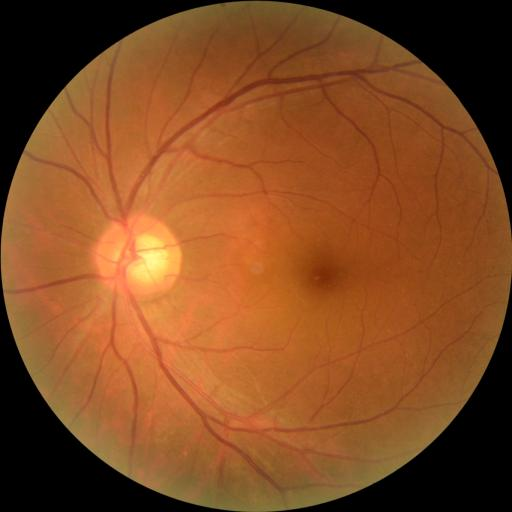Optic Cup: (116, 235, 168, 284)
Optic Disc: (93, 214, 181, 300)
